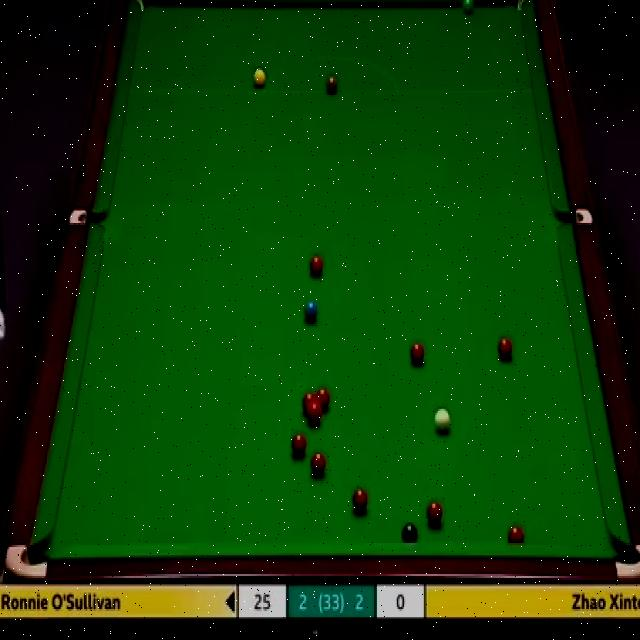black-ball: (402, 521, 418, 544)
blue-ball: (302, 299, 320, 321)
brown-ball: (325, 72, 338, 93)
green-ball: (461, 0, 475, 12)
red-ball: (310, 448, 328, 477), (352, 486, 370, 515), (426, 501, 444, 529), (409, 338, 426, 366), (291, 429, 307, 456), (497, 337, 512, 362), (302, 392, 316, 418), (506, 523, 525, 542), (316, 388, 330, 412), (310, 254, 324, 276), (308, 406, 323, 426)
white-ball: (433, 407, 450, 435)
yellow-ball: (252, 70, 265, 88)
